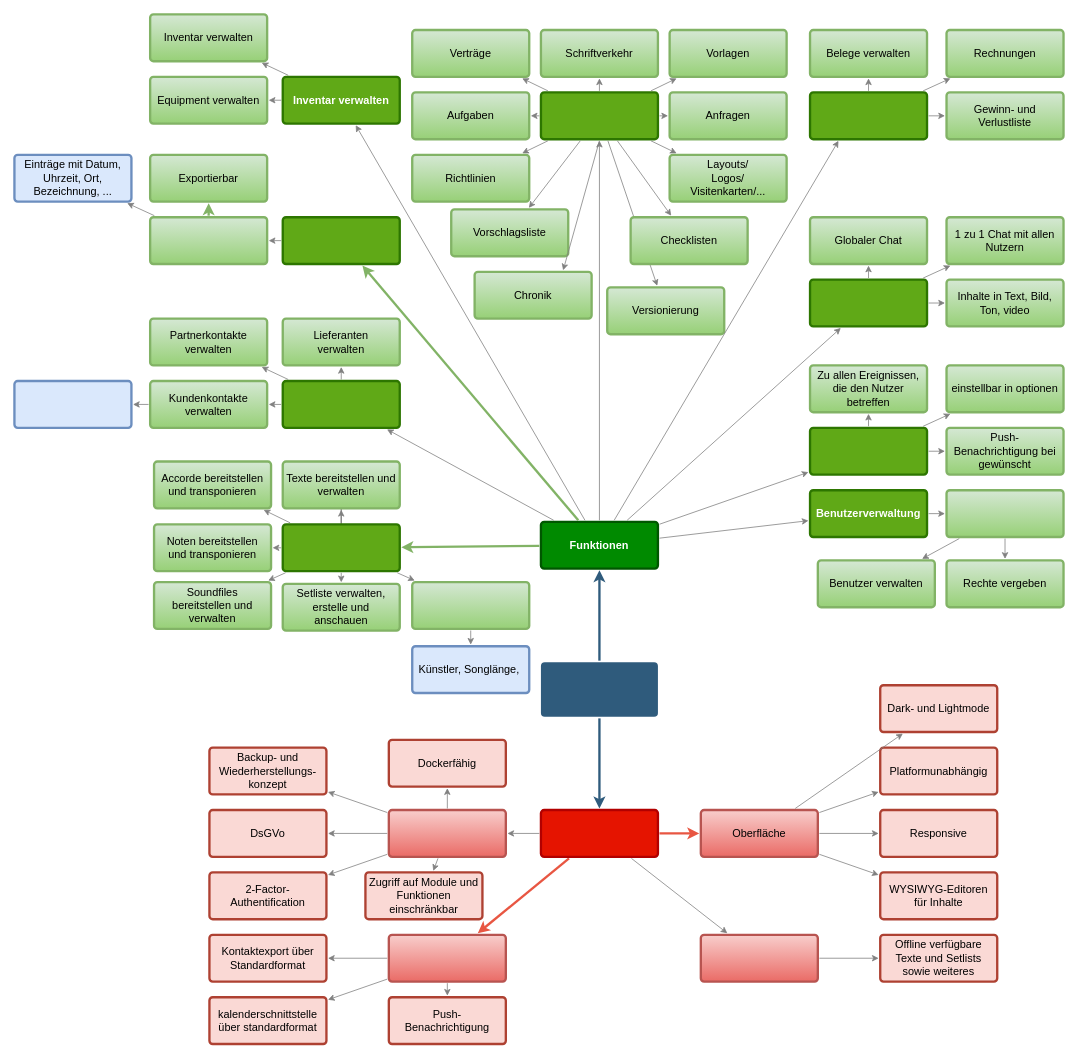
Image size: 1078x1058. Some labels were removed from this diagram. The centre of each missing label's shape, as x and y in pixels:
Benachrichtigungs- system: (x=868, y=450)
Berechtigungskonzept: (x=1004, y=513)
Chatsystem: (x=868, y=302)
Datenhaltung: (x=759, y=957)
Dokumenten-verwaltung: (x=599, y=115)
Finanzen: (x=868, y=115)
Kalender: (x=341, y=240)
Kontaktverwaltung: (x=341, y=404)
Metadaten bereitstellen und verwalten: (x=470, y=605)
Name, Adresse, Bankadresse, Mailadresse, ...: (x=72, y=404)
Organisationstool für Band: (x=599, y=689)
Schnittstellen: (x=447, y=957)
Sicherheitskonzept: (x=447, y=833)
Songs: (x=341, y=547)
Technische: (x=599, y=833)
Termine Organisieren und verwalten: (x=208, y=240)
